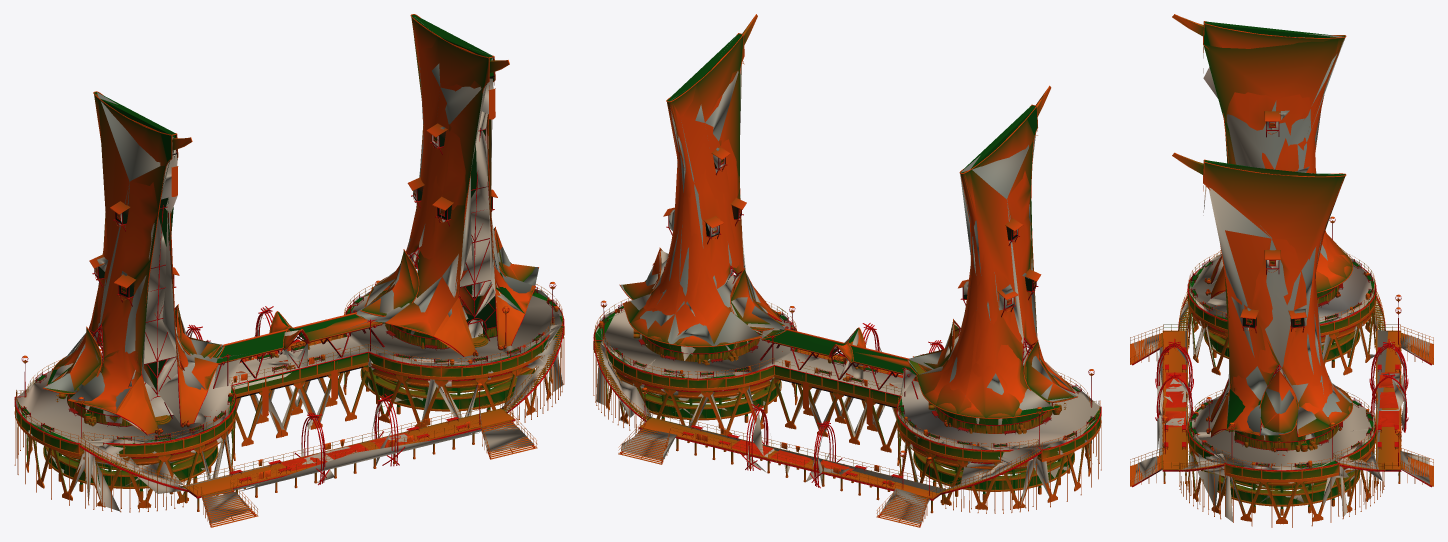
File: KB3D_GAE_BldgLG_B.glb
The picture shows the model from 3 angles, left to right: view 1: azimuth 30°, elevation 25°; view 2: azimuth 150°, elevation 25°; view 3: azimuth 270°, elevation 25°; orthographic projection. The views are drawn at different scales.
Visible parts, largest first — view 1: L0, L2, L1; view 2: L0, L1, L2; view 3: L0, L1, L2.
Part boxes in pixels (x1,y1,x2,y2): L0: [14, 14, 564, 527]; L2: [15, 17, 563, 523]; L1: [15, 14, 563, 527]; L0: [593, 14, 1101, 527]; L1: [594, 14, 1100, 527]; L2: [596, 35, 1099, 523]; L0: [1130, 14, 1433, 527]; L1: [1130, 14, 1433, 524]; L2: [1134, 33, 1429, 521].
Bounding box in the file's own units: 85.05 × 58.37 × 48.2.
